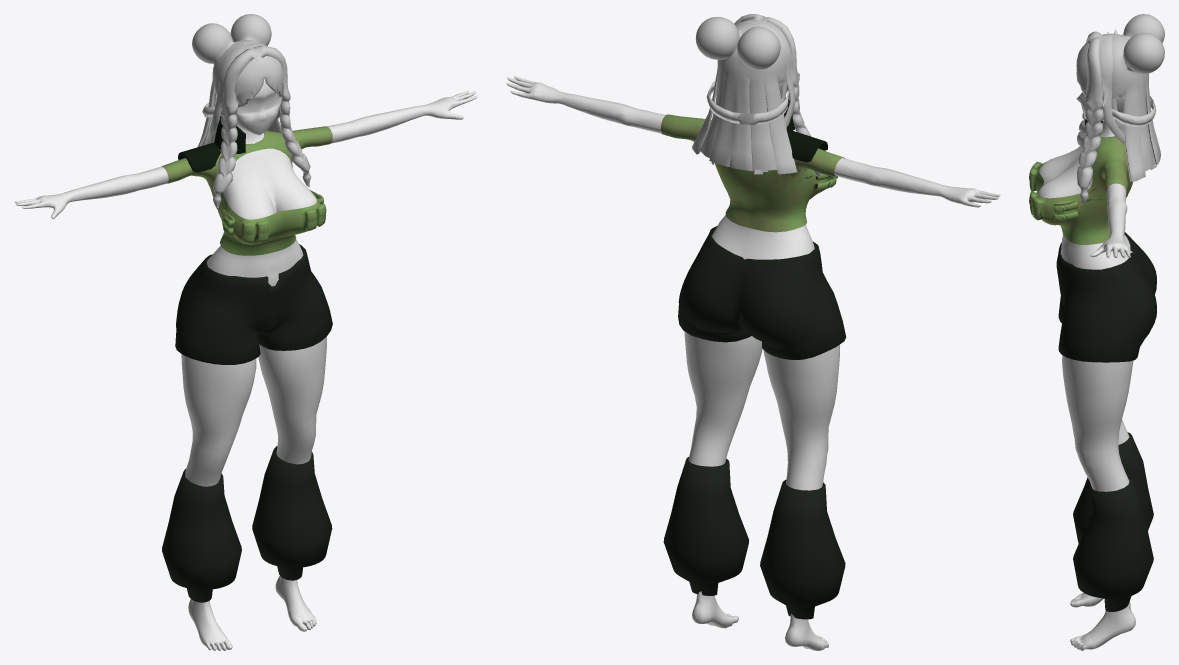
Rendered from TestModel.fbx.
3 renders of one model, left to right at view 1: azimuth 30°, elevation 25°; view 2: azimuth 150°, elevation 25°; view 3: azimuth 270°, elevation 25°, orthographic. The views are drawn at different scales.
Parts seen in each view (by area): view 1: BodyMesh.016, Cylinder, BodyMesh.004, Cube.001, BodyMesh.015, Cube.002, Cylinder.001; view 2: BodyMesh.016, Cylinder, BodyMesh.004, Cube.001, BodyMesh.015, Cylinder.001; view 3: BodyMesh.016, Cube.001, BodyMesh.004, Cylinder, BodyMesh.015, Cube.002.
Part boxes in pixels (box(x1,y1,x2,y2)): BodyMesh.016: box(14, 90, 477, 650); Cylinder: box(162, 446, 332, 602); BodyMesh.004: box(175, 244, 332, 364); Cube.001: box(192, 14, 311, 209); BodyMesh.015: box(161, 126, 332, 255); Cube.002: box(216, 79, 282, 135); Cylinder.001: box(178, 116, 245, 172); BodyMesh.016: box(506, 76, 1000, 650); Cylinder: box(663, 457, 845, 619); BodyMesh.004: box(678, 226, 846, 359); Cube.001: box(692, 14, 820, 176); BodyMesh.015: box(661, 114, 845, 232); Cylinder.001: box(767, 98, 827, 162); BodyMesh.016: box(1038, 30, 1135, 650); Cube.001: box(1076, 14, 1164, 204); BodyMesh.004: box(1056, 232, 1156, 362); Cylinder: box(1073, 432, 1153, 611); BodyMesh.015: box(1029, 135, 1132, 245); Cube.002: box(1076, 92, 1123, 120).
Size of the model in its own units: 148 by 183 by 37.54.
